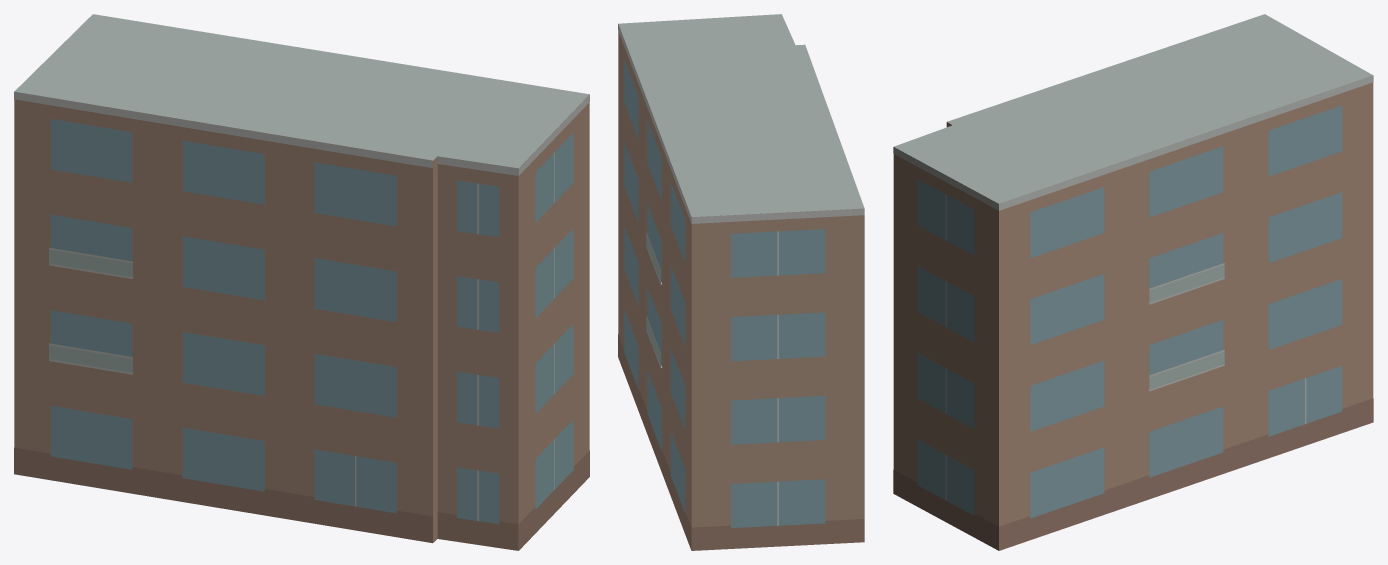
File: survey-upis-32906396.glb
3 views of the same model, side by side, from view 1: azimuth 30°, elevation 25°; view 2: azimuth 150°, elevation 25°; view 3: azimuth 270°, elevation 25° (orthographic). The views are drawn at different scales.
Visible parts, largest first — view 1: survey-upis-32906396.tmp; view 2: survey-upis-32906396.tmp; view 3: survey-upis-32906396.tmp.
Boxes of the visible parts, x1,y1,x2,y2 form: survey-upis-32906396.tmp: [14, 14, 589, 550]; survey-upis-32906396.tmp: [618, 14, 864, 550]; survey-upis-32906396.tmp: [893, 14, 1373, 550].
Bounding box in the file's own units: 14.33 × 12.2 × 15.3.
